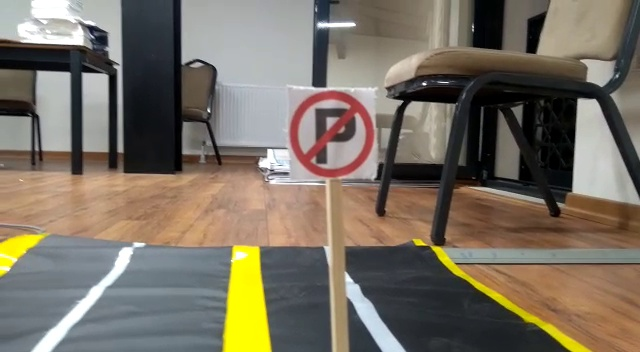park_yapilmaz: (287, 87, 375, 180)
